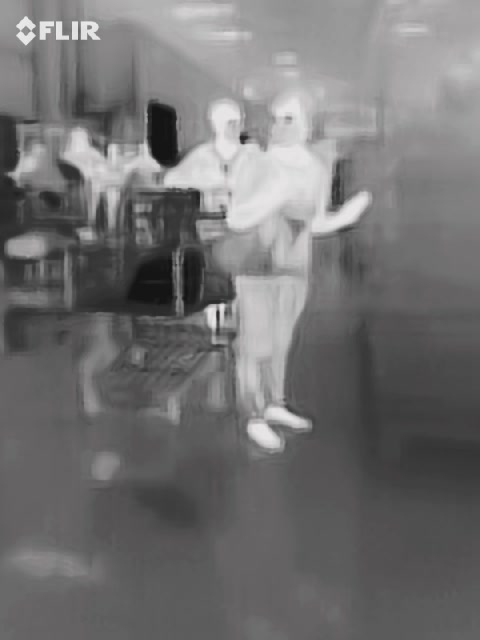head: (264, 93, 314, 150), (209, 96, 248, 145)
